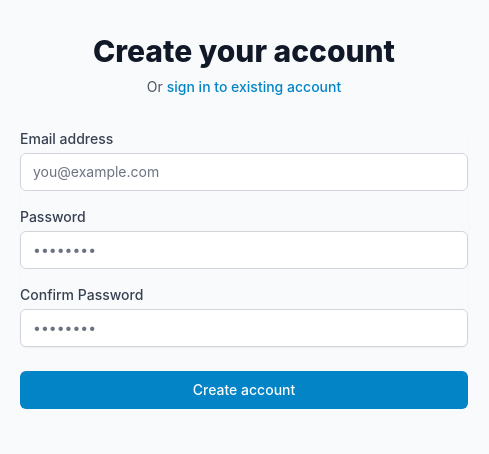
Test: Auth UI - MVP Tests › [AUTH] Password Validation › should enforce minimum 8 character password on register
Step 1. Type "test@example.com" into the field labelled "Email address" → (244, 172), box [20,153,468,191]
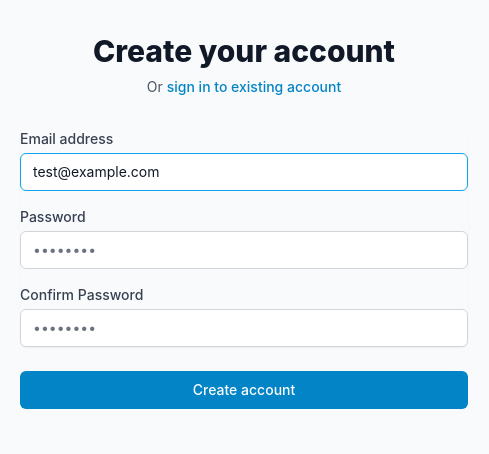
Step 2. Type "short" into the password field labelled "Password" → (244, 250), box [20,231,468,269]
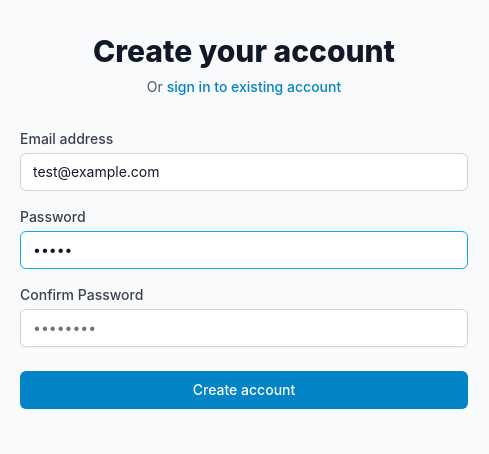
Step 3. Click the button "Create account" → (244, 390), box [20,371,468,409]
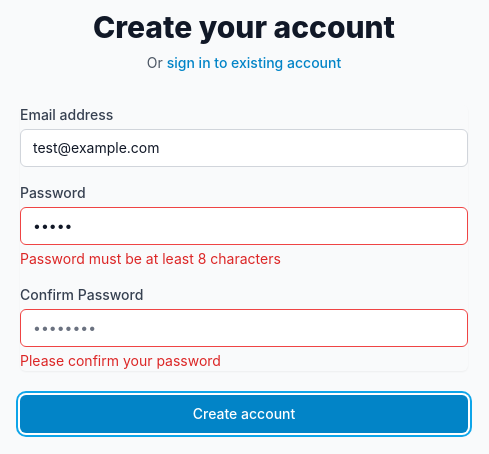
Now the text "Password must be at least 8 characters" is shown, box [20,250,281,267]
